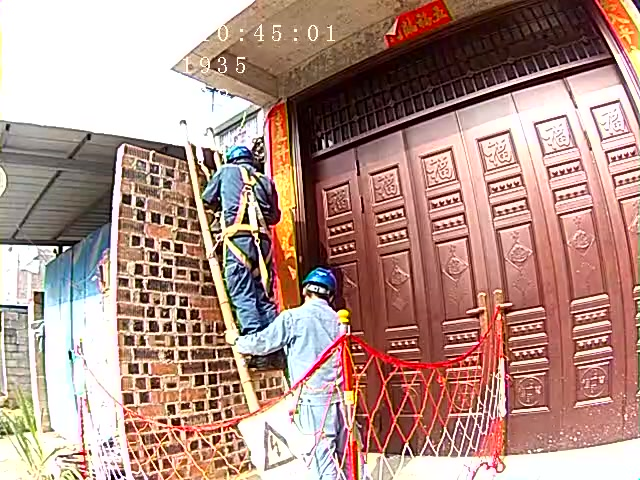downsuit: (223, 231, 279, 330), (297, 404, 356, 480)
halt: (301, 267, 338, 302), (226, 145, 254, 165)
hand: (223, 325, 241, 347)
person: (221, 261, 359, 480), (198, 144, 289, 337)
safebelt: (208, 161, 275, 302)
support: (224, 270, 356, 480)
upsuit: (234, 303, 354, 403), (200, 162, 280, 228)
